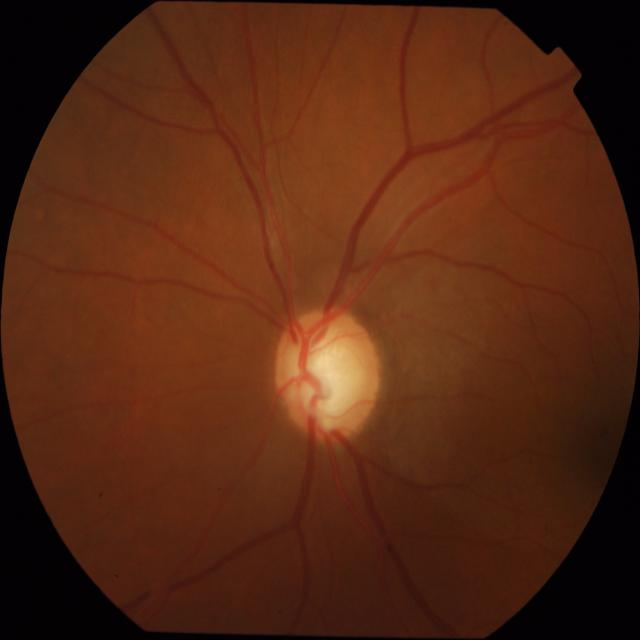OC: (286, 323, 372, 432)
OD: (273, 306, 382, 440)
